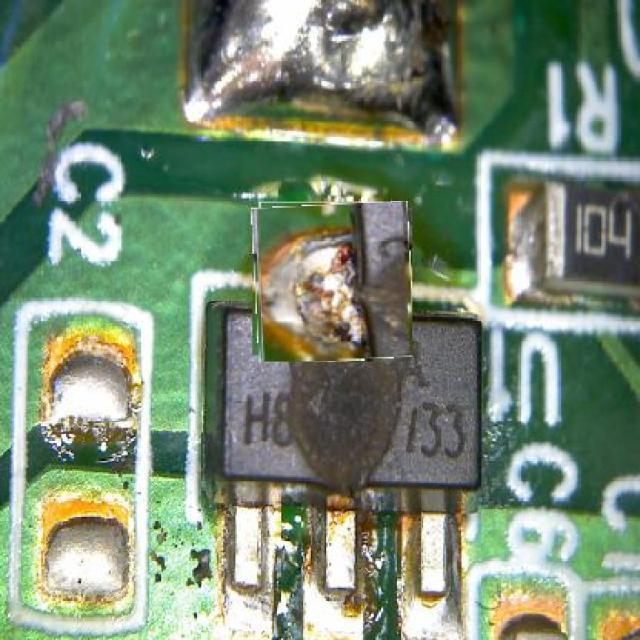Burn: (254, 203, 412, 362)
